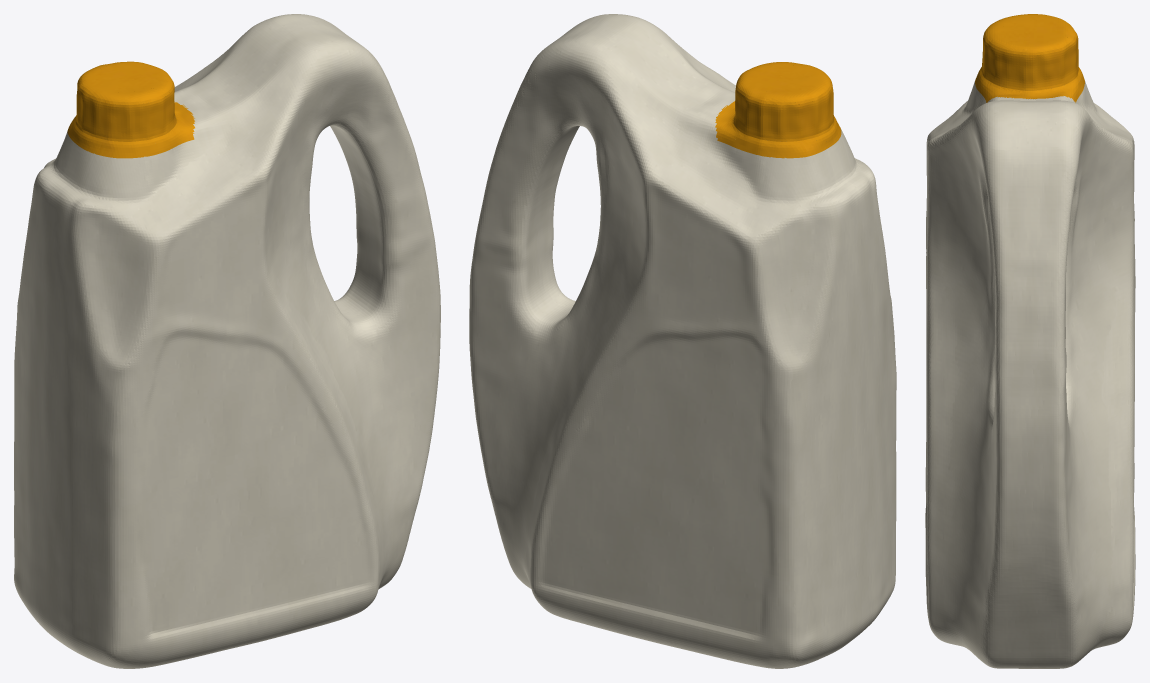
Rendered from oil-bottle-card.glb.
3 views of the same model, side by side, from view 1: azimuth 30°, elevation 25°; view 2: azimuth 150°, elevation 25°; view 3: azimuth 270°, elevation 25° (orthographic). The views are drawn at different scales.
Parts seen in each view (by area): view 1: FoodOilCan_UserGeometry; view 2: FoodOilCan_UserGeometry; view 3: FoodOilCan_UserGeometry.
Part boxes in pixels (x1,y1,x2,y2): FoodOilCan_UserGeometry: (14, 14, 440, 668); FoodOilCan_UserGeometry: (469, 14, 896, 668); FoodOilCan_UserGeometry: (925, 14, 1135, 668).
Bounding box in the file's own units: 0.1485 × 0.208 × 0.0742.
2 materials, 2 textured.
